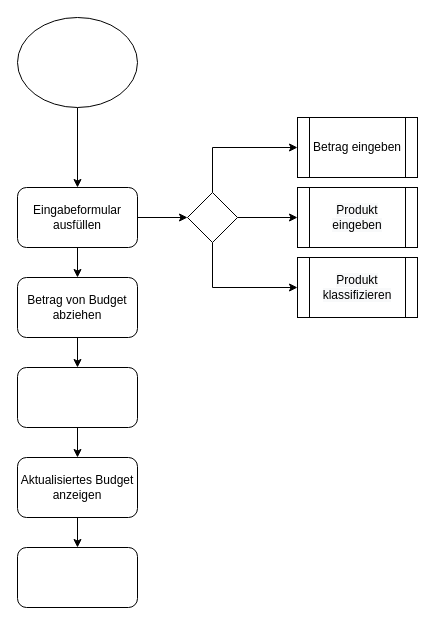
Some shapes in this 435 by 625 pixel diagram are drawn without their labels. Each missing label, with the centre of its shape:
"Betrag zu Genres hinzufügen" belongs at pixel 77 397.
"Genres Übersicht anzeigen" belongs at pixel 77 577.
"Start" belongs at pixel 77 62.
